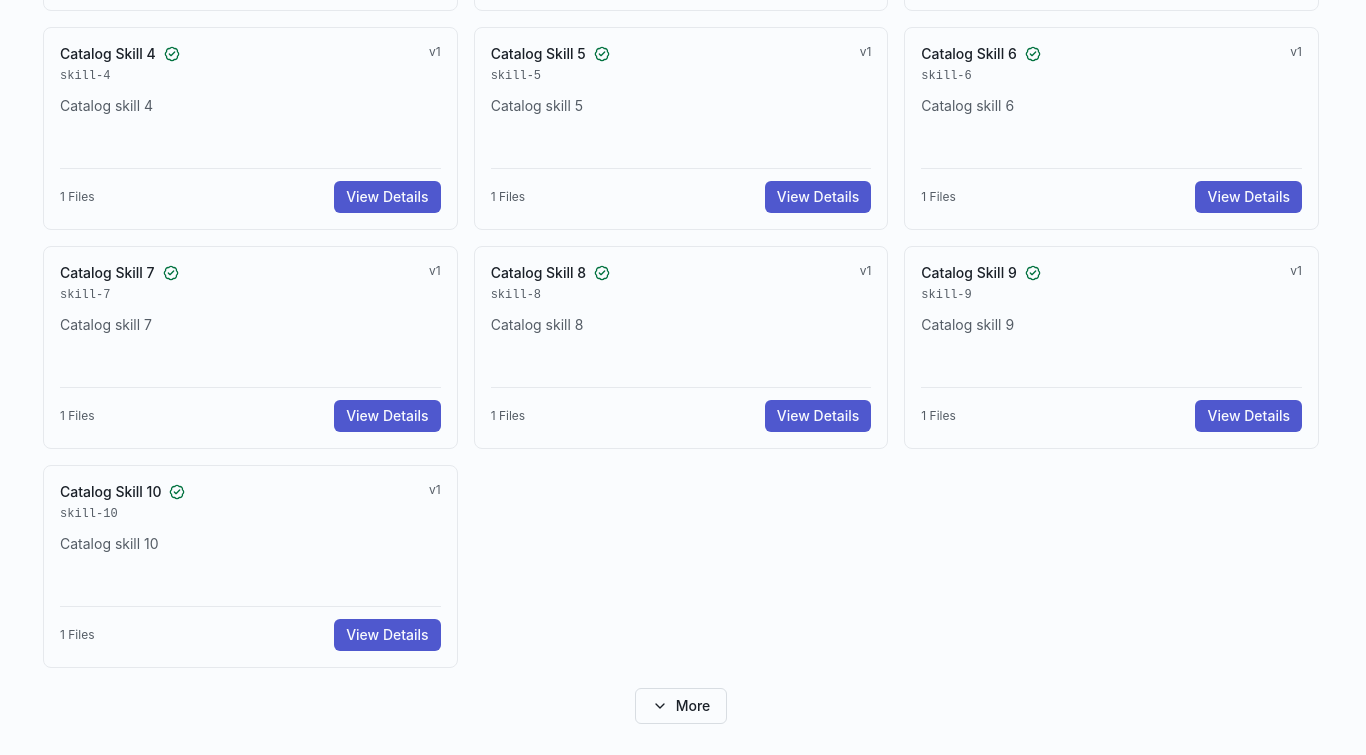
it: SkillsPage › shows ten catalog entries initially and appends ten more on demand
The width and height of the screenshot is (1366, 755).
(page scrolled)
What coordinates should you click on to do the following:
click the button with test id "skill-catalog-more"
I would click on:
 (681, 706)
Its box is [635,688,727,724].
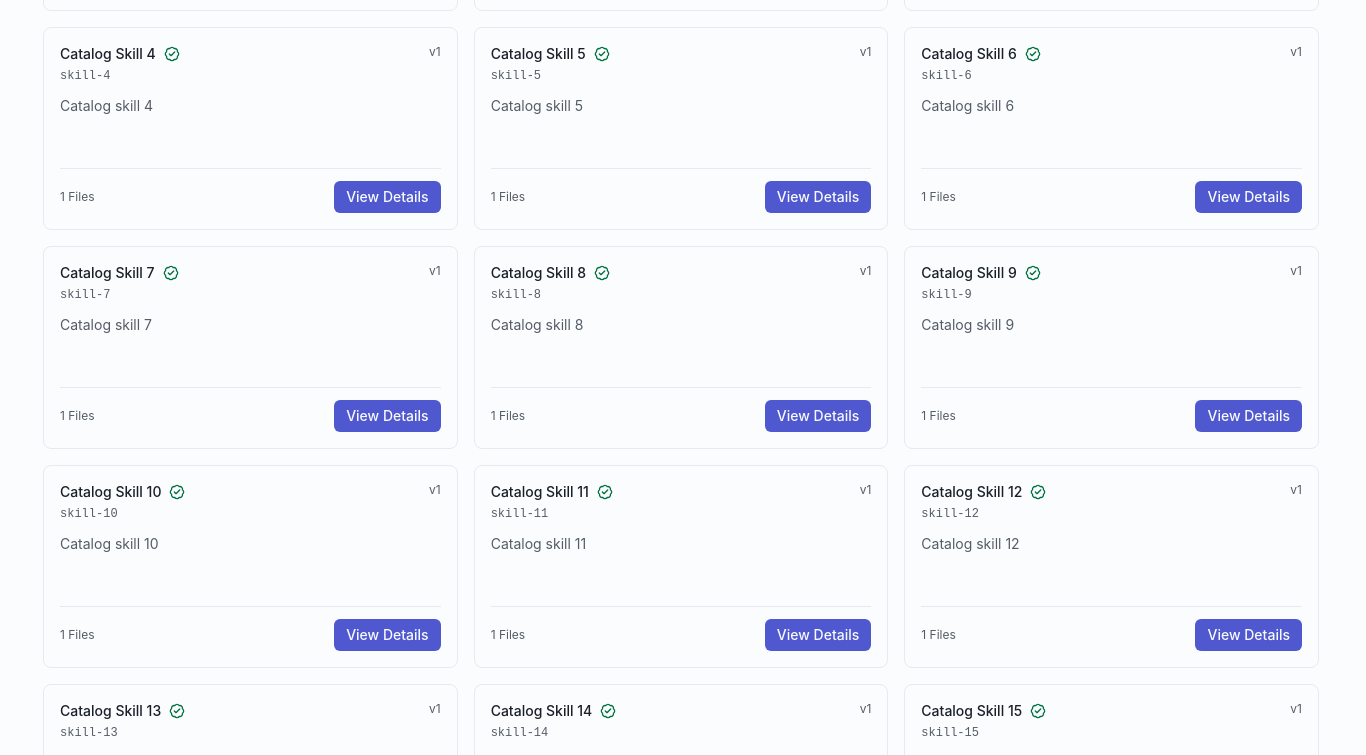
Now the number of elements with test id "skill-catalog-card" is 20
